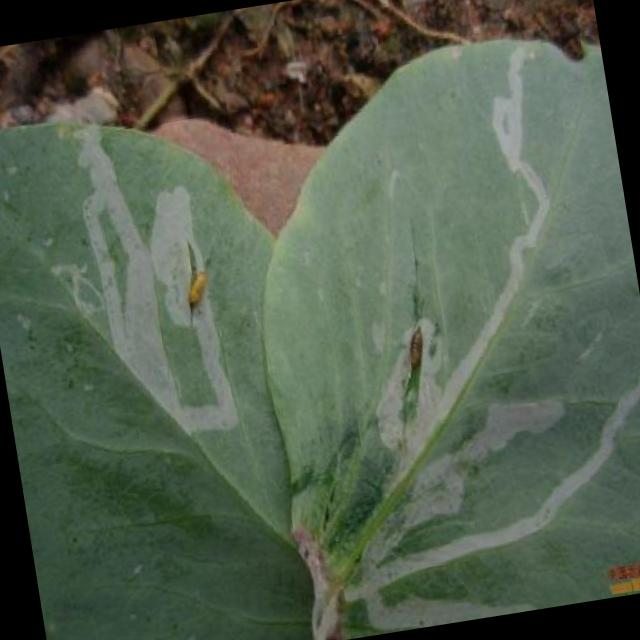whorl-maggot: (394, 320, 437, 386), (177, 258, 219, 324)
